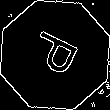P_SE: (24, 27, 86, 83)
